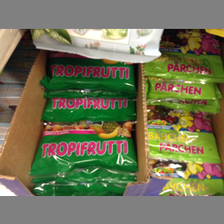candy: (41, 96, 137, 183), (147, 100, 220, 178)
